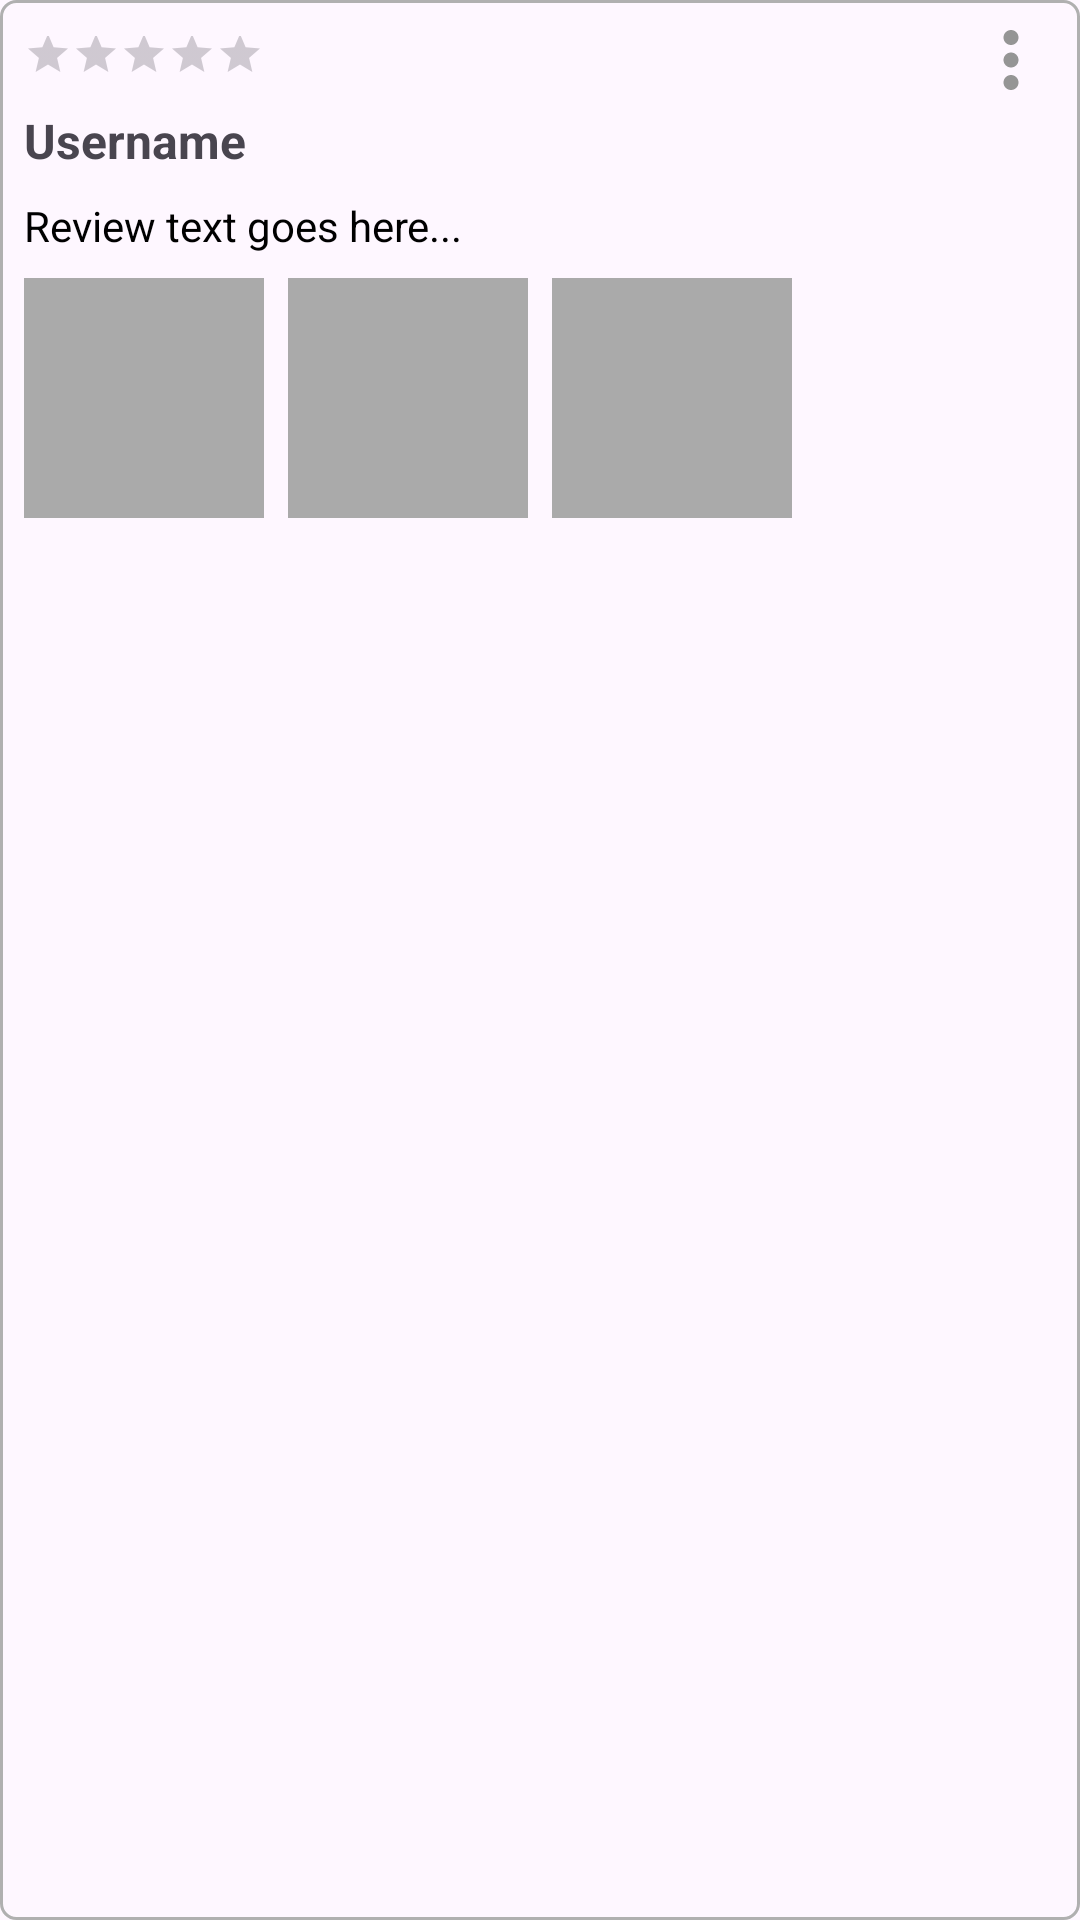

Screen size 1080px×1920px. Icon name, then its box in pixels as detection(x1, y1, x2, y2):
Review options: detection(1003, 30, 1019, 90)
